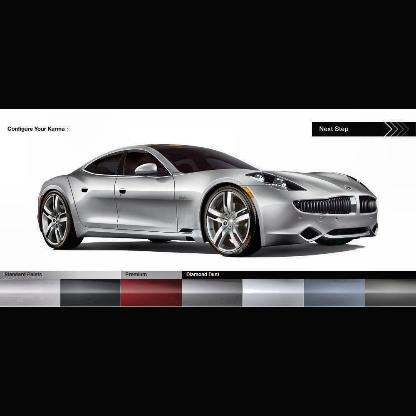Fisker Karma Sedan 2012: (38, 143, 380, 258)
